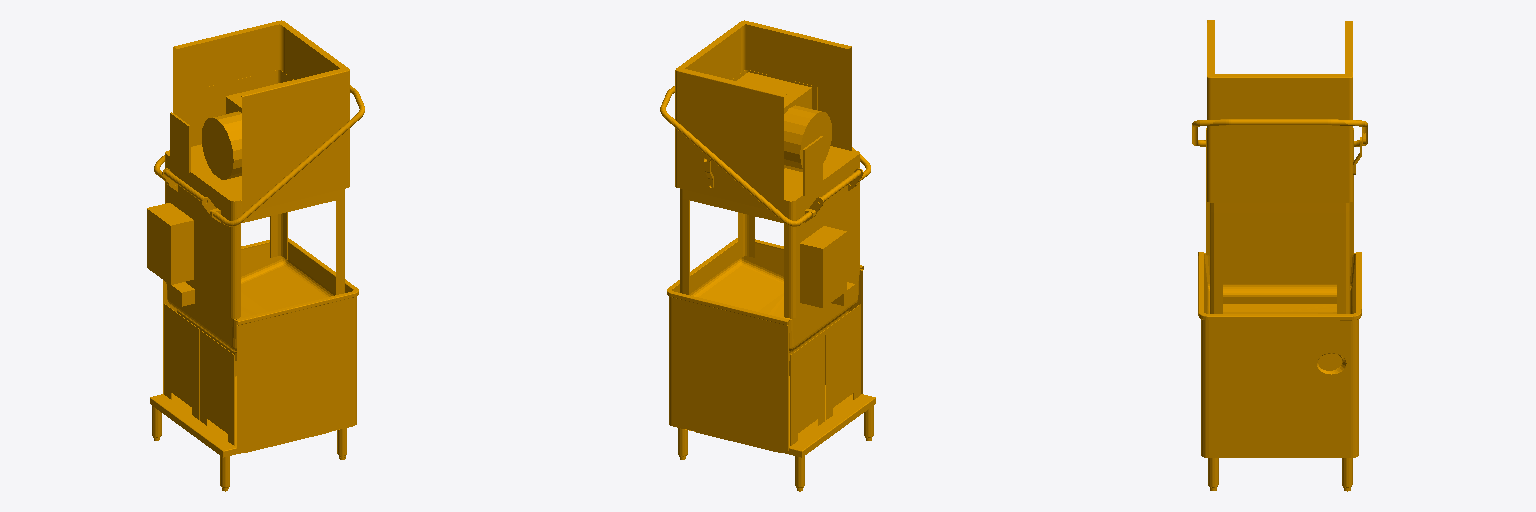
The robot description file, URDF, robot "hobart_rough":
<?xml version="1.0" ?>
<robot name="hobart_rough">
  <!--
  Rough dimensions (+- 0.5cm) for Hobart AM Ventless washing machine.

  Axes:
    +X From Back to Front (Depth)
    +Y From Right to Left (Width)
    +Z From Bottom to Top (Height)

  Origin:
    X=0, Y=0 is center of washer, lower cabinet.
    Z=0 is bottom of washer, at ground.

  Components (D x W X H in cm)
    Lower Cabinet:
      67 x 68.5 x 67.5
      Bottom to Ground (Z): 18
      Backing behind Back of Upper Cabinet (X): 4
    Upper Cabinet:
      59.5 x 63 x 62.5
      Bottom to Top of Lower Cabinet at Full Extension (Z): 43.5
      Back to Backing of Lower Cabinet (X): 1.5
      Centered on Lower Cabinet in Y-axis
    Bar:
      Radius: 2.5
      Width, Radial Center to Radial Center (Y): 72
      Length of bar on Side (angled axis): 88
      Top of Lower Cabinet to Radial Center of Bar, at Back (Z): 49.5
        Assume Bar starts at middle of Backing (X)
      Top of Lower Cabinet to Radial Center of Bar, 52.5 along bar (Z): 75
      Angle: ~30 degrees
  -->
  <!--<link name="floor_pieces"/>-->

  <!--<joint name="floor_lower_joint" type="fixed">-->
    <!--<origin xyz="0 0 0.18"/>-->
    <!--<parent link="floor_pieces"/>-->
    <!--<child link="lower_cabinet"/>-->
  <!--</joint>-->

  <!--<link name="lower_cabinet">-->
    <!--&lt;!&ndash; Origin: Bottom Center &ndash;&gt;-->
    <!--<visual>-->
      <!--<origin xyz="0 0 0.3375"/>-->
      <!--<geometry>-->
        <!--<box size="0.67 0.685 0.675"/>-->
      <!--</geometry>-->
    <!--</visual>-->
  <!--</link>-->

  <!--<joint name="lower_upper_joint" type="fixed">-->
    <!--<origin xyz="0.02 0 1.11"/>-->
    <!--<parent link="lower_cabinet"/>-->
    <!--<child link="upper_cabinet"/>-->
  <!--</joint>-->

  <!--<link name="upper_cabinet">-->
    <!--&lt;!&ndash; Origin: Bottom Center &ndash;&gt;-->
    <!--<visual>-->
      <!--<origin xyz="0 0 0.3125"/>-->
      <!--&lt;!&ndash;<pose frame=''>0 0 0 1.57 -0 -1.57</pose>&ndash;&gt;-->
      <!--<geometry>-->
        <!--<box size="0.595 0.63 0.625"/>-->
        <!--&lt;!&ndash;<mesh filename="dish_washer_body.obj"/>&ndash;&gt;-->
        <!--&lt;!&ndash;<scale value=".0254 .0254 .0254"/>&ndash;&gt;-->
      <!--</geometry>-->
    <!--</visual>-->
  <!--</link>-->

  <link name="dishwasher_body">
    <visual>
      <origin rpy="0 0 1.57" xyz="0 0 0.0254"/>
      <geometry>
        <mesh filename="hobart_washer.obj" scale="0.0254 0.0254 0.0254"/>
      </geometry>
    </visual>
  </link>

  <!--<joint name="lower_bar_joint" type="fixed">-->
    <!--&lt;!&ndash; Place at Lower Cabinet's Back, but at the same level as the-->
    <!--Upper Cabinet. Angle by ~30 deg. &ndash;&gt;-->
    <!--<origin xyz="-0.315 0 1.17" rpy="0 -0.5236 0"/>-->
    <!--<parent link="lower_cabinet"/>-->
    <!--<child link="bar"/>-->
  <!--</joint>-->

  <!--<link name="bar">-->
    <!--&lt;!&ndash; Origin: (X, Z) Interface with Lower Cabinet Back, (Y) Center &ndash;&gt;-->
    <!--&lt;!&ndash; Local Axes: +X extension of bar &ndash;&gt;-->

    <!--&lt;!&ndash; Left Side &ndash;&gt;-->
    <!--<visual>-->
      <!--<origin xyz="0.44 0.36 0" rpy="0 1.57 0"/>-->
      <!--<geometry>-->
        <!--<cylinder radius="0.025" length="0.88"/>-->
      <!--</geometry>-->
    <!--</visual>-->
    <!--&lt;!&ndash; Right Side &ndash;&gt;-->
    <!--<visual>-->
      <!--<origin xyz="0.44 -0.36 0" rpy="0 1.57 0"/>-->
      <!--<geometry>-->
        <!--<cylinder radius="0.025" length="0.88"/>-->
      <!--</geometry>-->
    <!--</visual>-->
    <!--&lt;!&ndash; Front Side &ndash;&gt;-->
    <!--<visual>-->
      <!--<origin xyz="0.88 0 0" rpy="1.57 0 0"/>-->
      <!--<geometry>-->
        <!--<cylinder radius="0.025" length="0.72"/>-->
      <!--</geometry>-->
    <!--</visual>-->
  <!--</link>-->

</robot>

--- Render facts (derived) ---
Views: 3 orthographic renders of the robot side by side, from view 1: azimuth 30°, elevation 25°; view 2: azimuth 150°, elevation 25°; view 3: azimuth 270°, elevation 25°.
Robot: hobart_rough — 1 links, 0 joints (none); root link dishwasher_body; default pose: all joints at 0.
Links seen in each view (by area): view 1: dishwasher_body; view 2: dishwasher_body; view 3: dishwasher_body.
Link boxes in pixels (box(x1,y1,x2,y2)): dishwasher_body: box(147, 20, 364, 491); dishwasher_body: box(660, 20, 875, 491); dishwasher_body: box(1192, 20, 1367, 491).
Size in the robot's own frame: 0.8411 by 0.7499 by 1.95 metres.
1 mesh visuals loaded from 1 distinct referenced files (1 OBJ).
